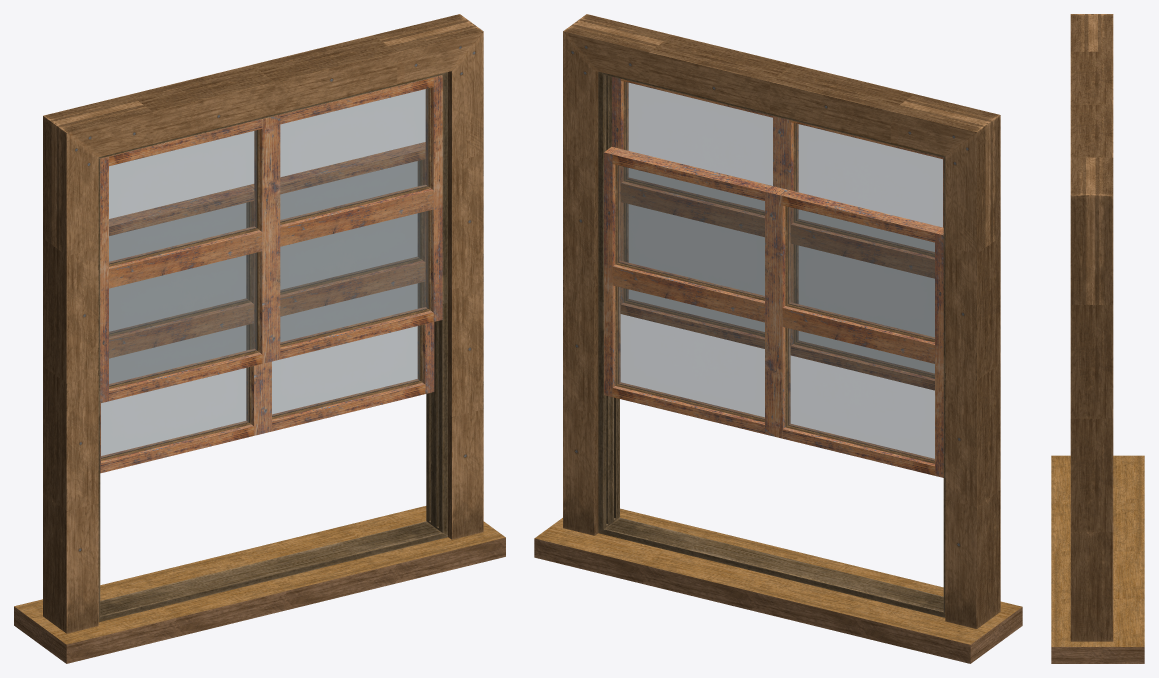
The model's file is fenetre_ouverte.glb.
The picture shows the model from 3 angles, left to right: view 1: azimuth 30°, elevation 25°; view 2: azimuth 150°, elevation 25°; view 3: azimuth 270°, elevation 25°; orthographic projection. The views are drawn at different scales.
Visible parts, largest first — view 1: Object_2, Object_3; view 2: Object_2, Object_3; view 3: Object_2.
Part boxes in pixels (x1,y1,x2,y2): Object_2: [14, 14, 505, 663]; Object_3: [101, 88, 428, 458]; Object_2: [534, 14, 1022, 663]; Object_3: [618, 82, 942, 460]; Object_2: [1051, 14, 1144, 663].
Size of the model in its own units: 6.13 by 6.93 by 1.27.
Materials: 2 (2 with a texture image).
